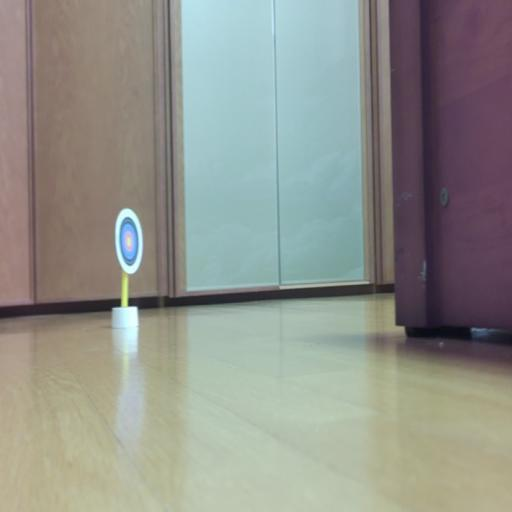target: (115, 208, 143, 274)
